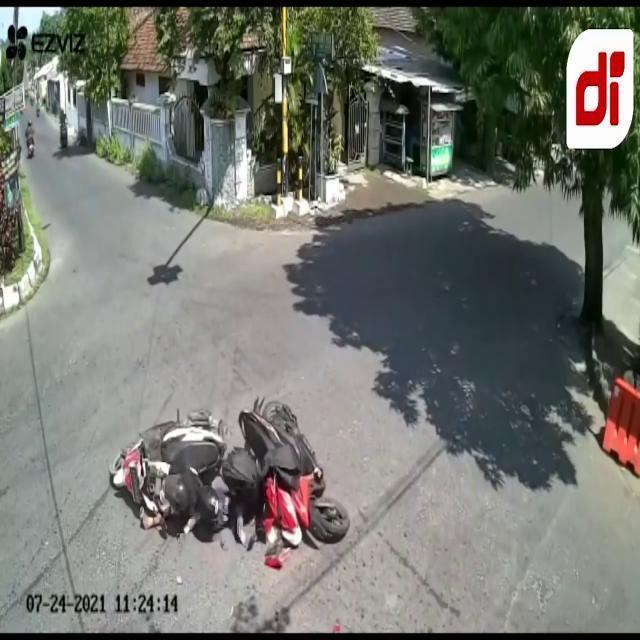accident: (104, 394, 353, 570)
